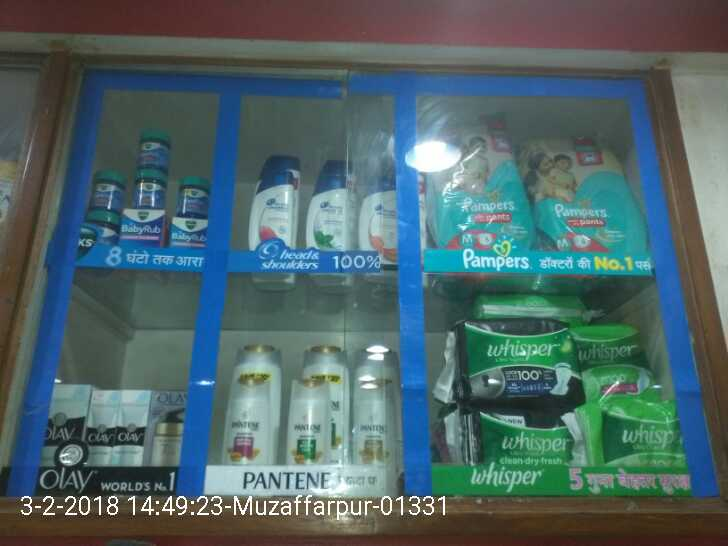vicks: (89, 126, 211, 246)
